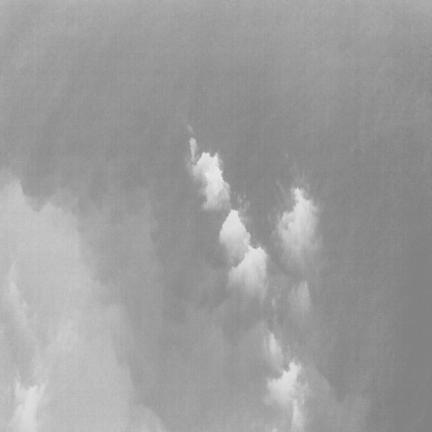flukeprints: (277, 188, 316, 241), (194, 153, 228, 210), (229, 246, 266, 285), (268, 362, 300, 400), (219, 209, 250, 244)
